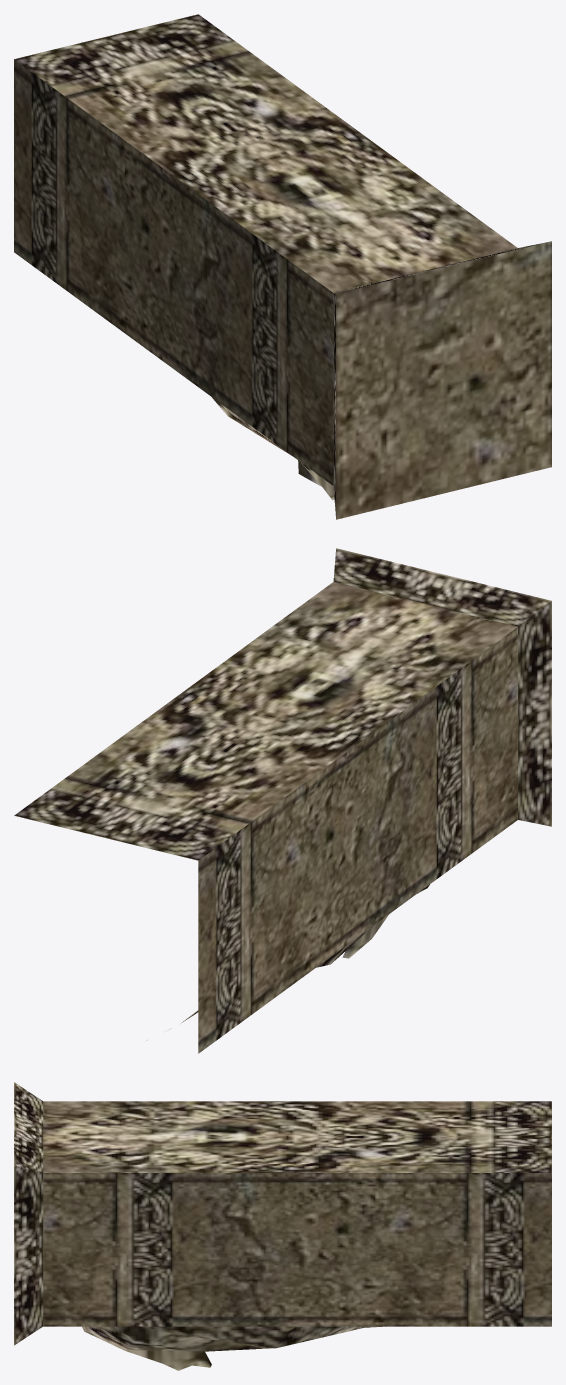
The picture shows the model from 3 angles, top to bottom: view 1: azimuth 30°, elevation 25°; view 2: azimuth 150°, elevation 25°; view 3: azimuth 270°, elevation 25°; orthographic projection. The views are drawn at different scales.
Parts seen in each view (by area): view 1: model_Object04; view 2: model_Object04; view 3: model_Object04.
Part boxes in pixels (<box>): model_Object04: <box>14,14,551,519</box>; model_Object04: <box>14,548,551,1053</box>; model_Object04: <box>14,1082,551,1370</box>.
Bounding box in the file's own units: 1.17 × 1.59 × 3.17.
2 materials, 2 textured.
